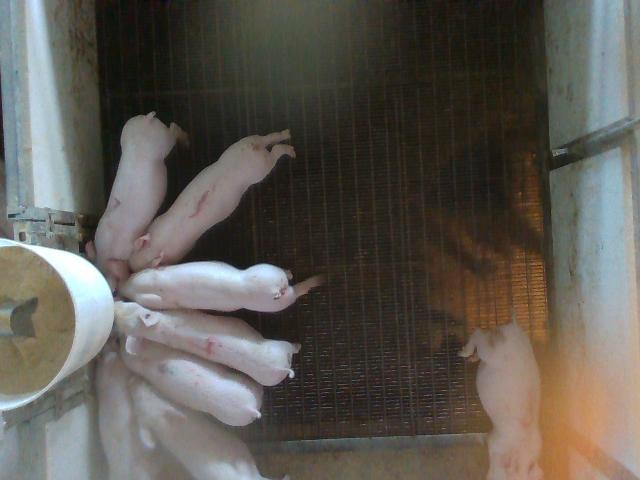pig-1: (129, 130, 294, 271)
pig-3: (460, 316, 542, 478)
pig-4: (115, 302, 300, 385)
